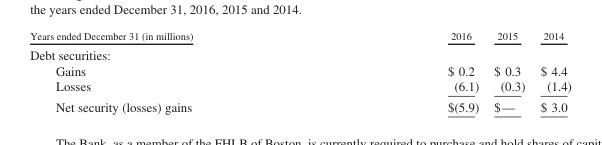table: (29, 29, 570, 113)
table column: (29, 29, 319, 113), (319, 29, 485, 113), (485, 29, 532, 113), (532, 29, 570, 113)
table column header: (29, 29, 570, 44)
table projected row header: (29, 44, 570, 62)
table row: (29, 44, 570, 62), (29, 78, 570, 96), (29, 96, 570, 113), (29, 62, 570, 78), (29, 29, 570, 44)
